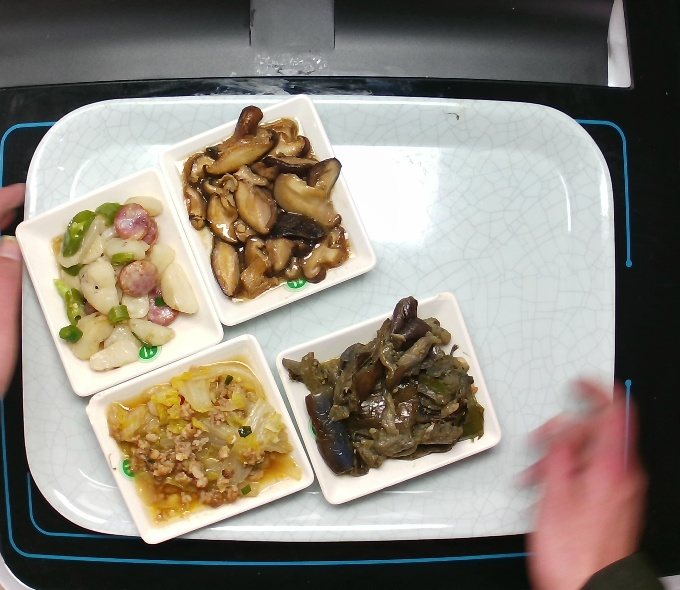wcq-MaTiGuo: (49, 193, 203, 374)
wcq-MoGu: (178, 101, 356, 302)
wcq-QieZi: (279, 292, 488, 478)
wcq-RouMoBaiCai: (102, 356, 304, 527)
